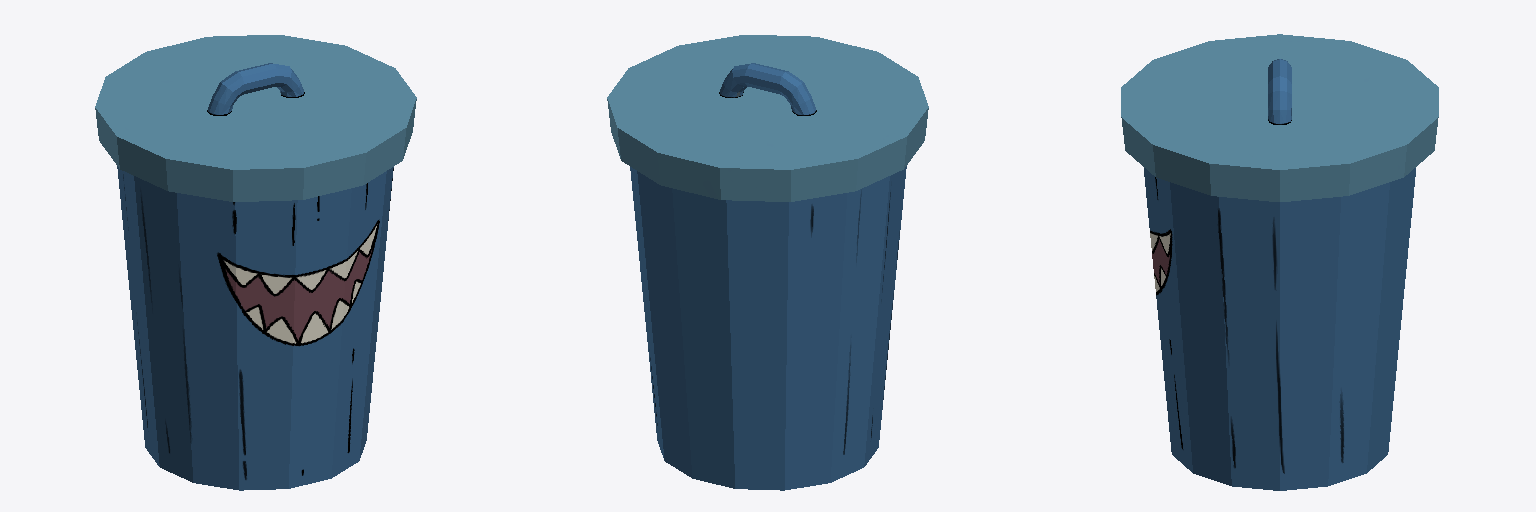
3 views of the same model, side by side, from view 1: azimuth 30°, elevation 25°; view 2: azimuth 150°, elevation 25°; view 3: azimuth 270°, elevation 25° (orthographic).
Visible parts, largest first — view 1: pCylinder1_initialShadingGroup, pCylinder2_initialShadingGroup, pCylinder3_initialShadingGroup; view 2: pCylinder1_initialShadingGroup, pCylinder2_initialShadingGroup, pCylinder3_initialShadingGroup; view 3: pCylinder1_initialShadingGroup, pCylinder2_initialShadingGroup, pCylinder3_initialShadingGroup.
Part boxes in pixels (left/top/right/bottom): pCylinder1_initialShadingGroup: left=117, top=166, right=393, bottom=490; pCylinder2_initialShadingGroup: left=95, top=35, right=416, bottom=201; pCylinder3_initialShadingGroup: left=207, top=63, right=304, bottom=115; pCylinder1_initialShadingGroup: left=630, top=166, right=906, bottom=490; pCylinder2_initialShadingGroup: left=607, top=35, right=928, bottom=201; pCylinder3_initialShadingGroup: left=719, top=63, right=816, bottom=115; pCylinder1_initialShadingGroup: left=1144, top=168, right=1415, bottom=490; pCylinder2_initialShadingGroup: left=1121, top=34, right=1438, bottom=201; pCylinder3_initialShadingGroup: left=1268, top=59, right=1291, bottom=124.
Bounding box in the file's own units: 21.73 × 28.04 × 21.41.
Materials: 1 (1 with a texture image).